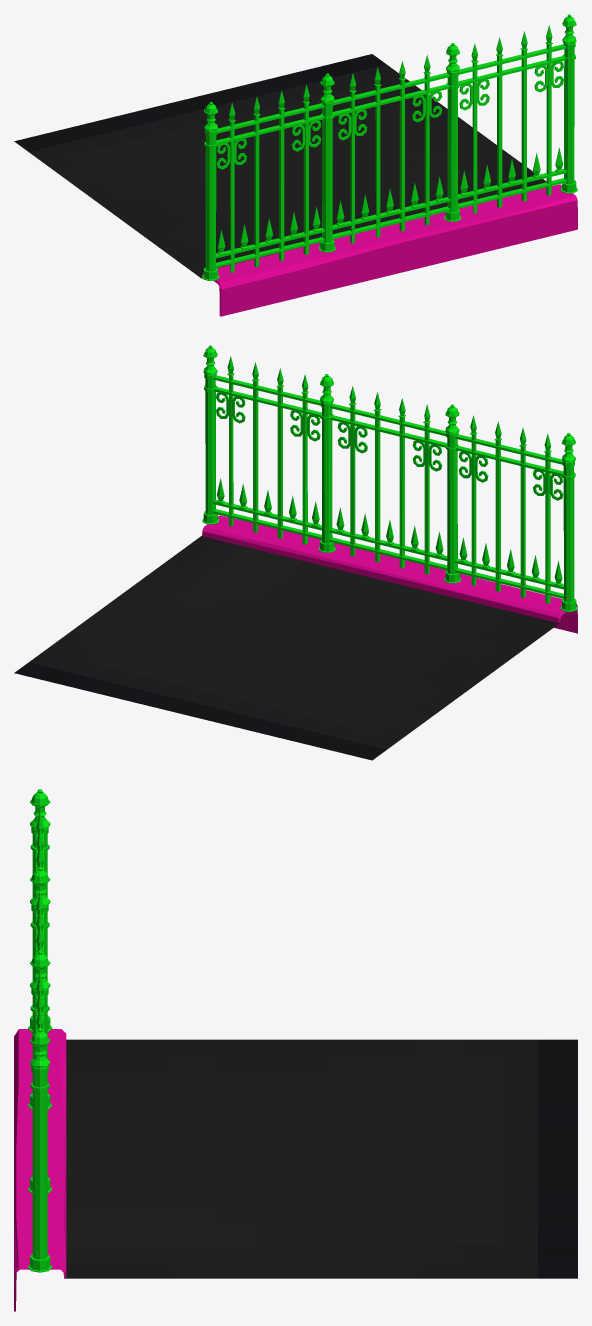
File: City_Fence18.fbx
The picture shows the model from 3 angles, top to bottom: view 1: azimuth 30°, elevation 25°; view 2: azimuth 150°, elevation 25°; view 3: azimuth 270°, elevation 25°; orthographic projection. The views are drawn at different scales.
Parts seen in each view (by area): view 1: SM_City_Fence_05a.mo; view 2: SM_City_Fence_05a.mo; view 3: SM_City_Fence_05a.mo.
Boxes of the visible parts, box(x1,y1,x2,y2) form: SM_City_Fence_05a.mo: box(14, 14, 577, 316); SM_City_Fence_05a.mo: box(14, 345, 577, 760); SM_City_Fence_05a.mo: box(14, 789, 577, 1311).
Size of the model in its own units: 417 by 222 by 399.
